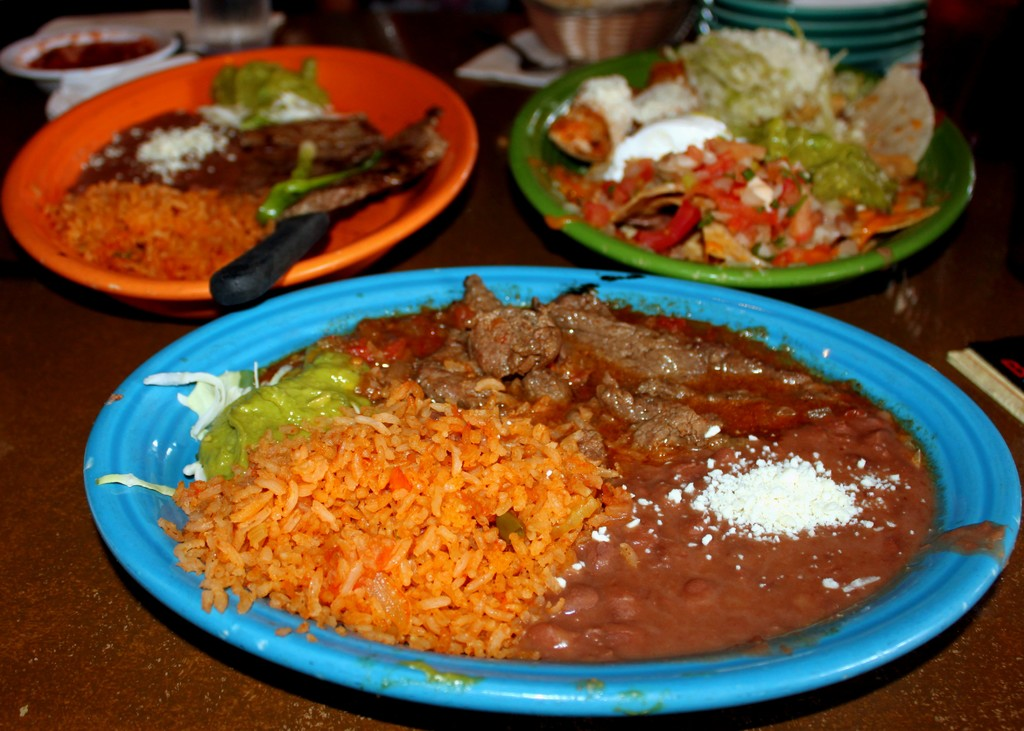salad: (540, 13, 939, 271)
